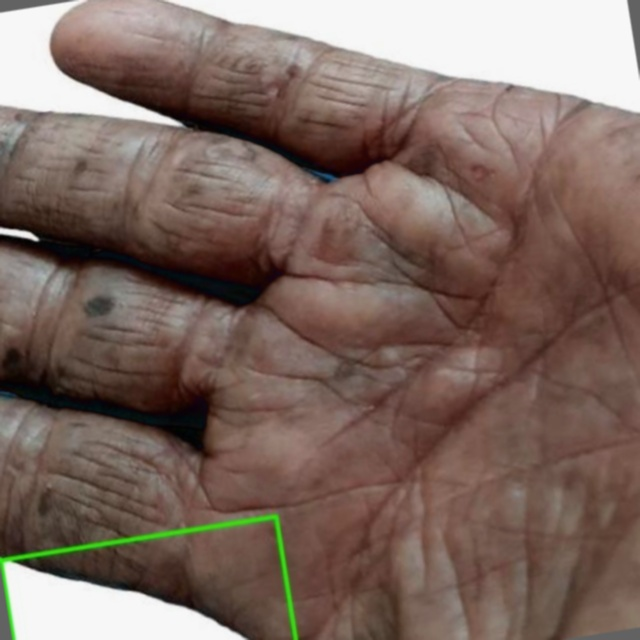Eczema: (0, 516, 295, 639)
